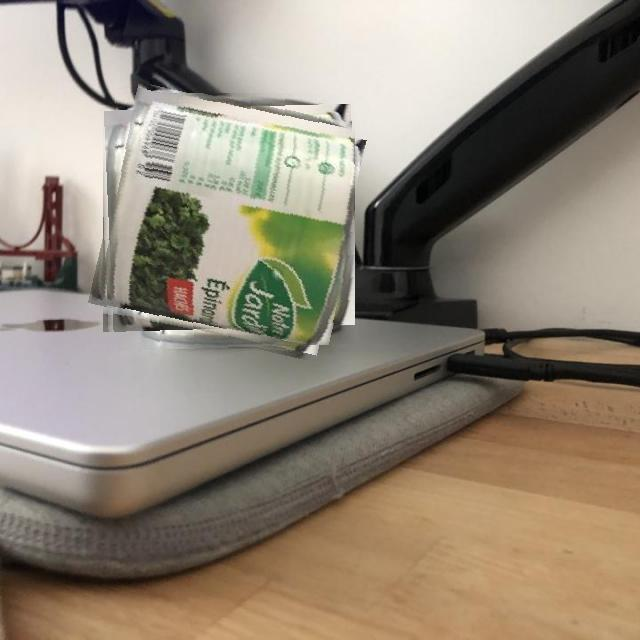recyclable: (98, 93, 355, 351)
